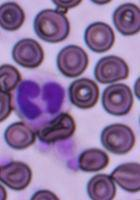N: (11, 70, 70, 132)
